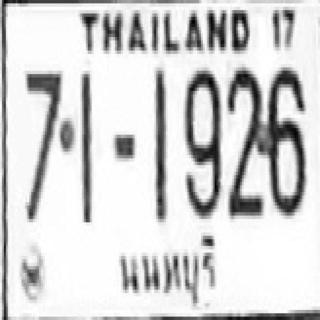N01: (152, 67, 166, 219), (80, 71, 92, 222)
N02: (225, 66, 262, 214)
N06: (266, 64, 304, 212)
N07: (24, 67, 62, 219)
N09: (184, 67, 220, 216)
P37: (112, 229, 221, 307)
